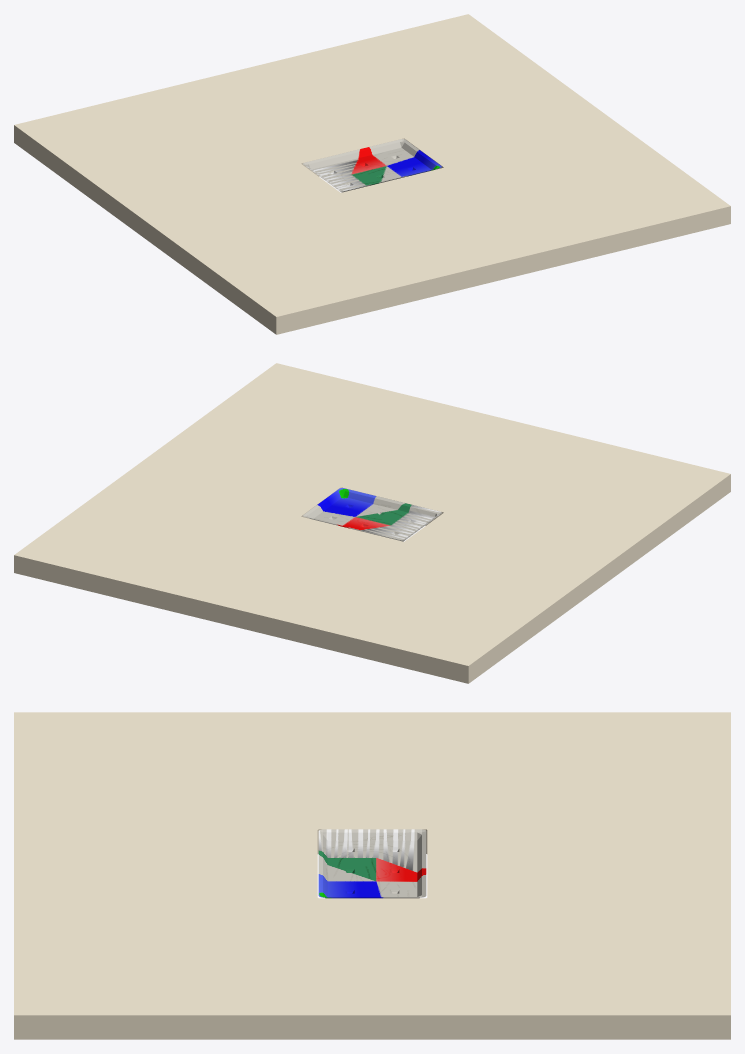
The model's file is game-objects.glb.
The picture shows the model from 3 angles, top to bottom: view 1: azimuth 30°, elevation 25°; view 2: azimuth 150°, elevation 25°; view 3: azimuth 270°, elevation 25°; orthographic projection. The views are drawn at different scales.
Visible parts, largest first — view 1: Plane, Table_Plane; view 2: Plane, Table_Plane; view 3: Plane, Table_Plane.
Boxes of the visible parts, <box> form: Plane: <box>14,14,730,334</box>; Table_Plane: <box>303,139,441,192</box>; Plane: <box>14,363,730,683</box>; Table_Plane: <box>303,488,441,541</box>; Plane: <box>14,712,730,1039</box>; Table_Plane: <box>318,829,426,898</box>.
Bounding box in the file's own units: 80 × 3.04 × 80.
2 materials, 1 textured.
